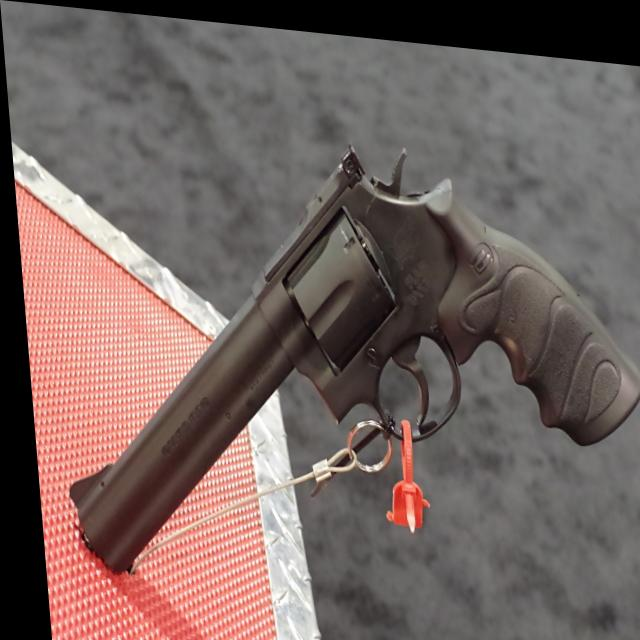handgun: (34, 106, 640, 618)
